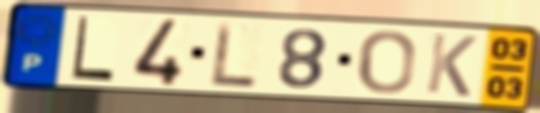4: (130, 16, 188, 88)
8: (278, 27, 329, 91)
K: (422, 31, 480, 99)
L: (68, 14, 117, 84), (210, 20, 259, 89)
O: (356, 28, 418, 96)
